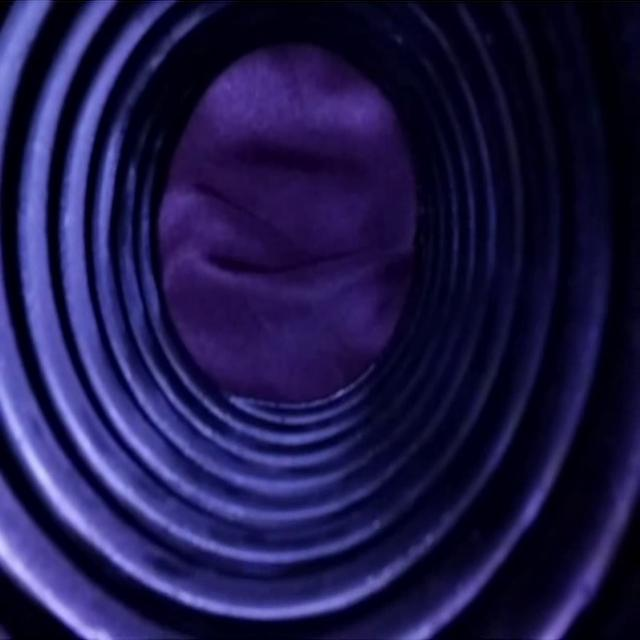block: (151, 47, 420, 408)
